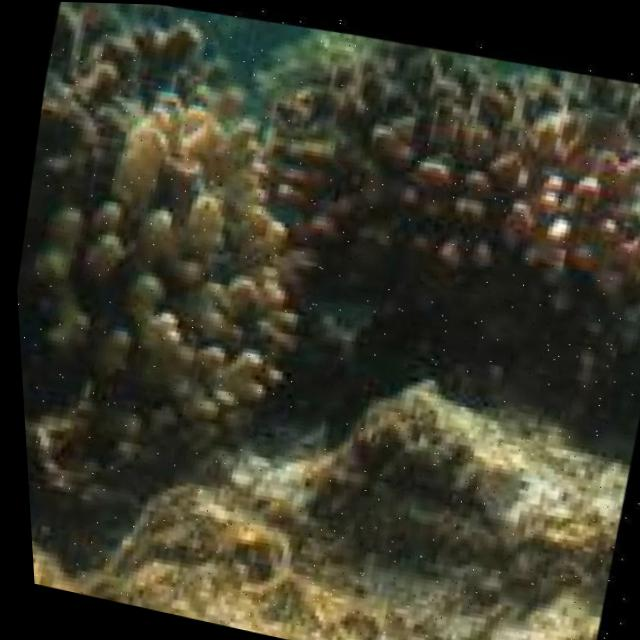Bleached Coral: (46, 84, 316, 463)
Healthy Coral: (414, 56, 640, 293)
